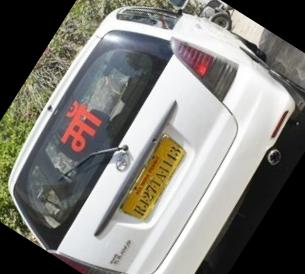plate: (99, 114, 209, 241)
